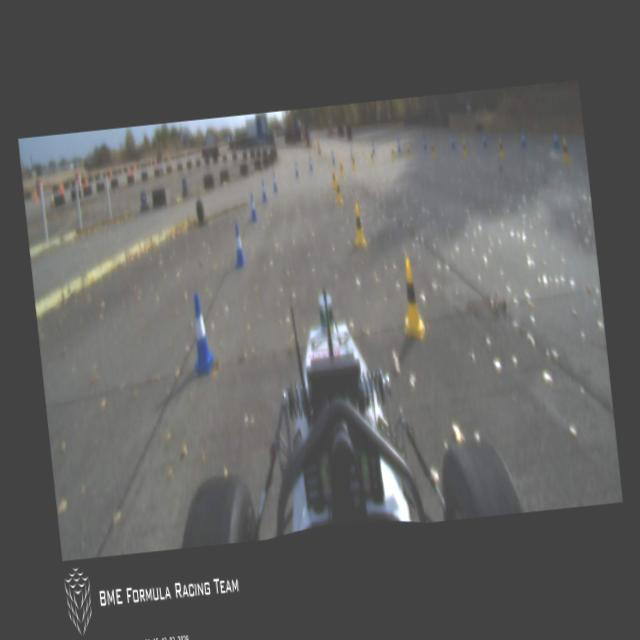blue_cone: (184, 293, 216, 375), (230, 224, 246, 264), (248, 190, 258, 220), (270, 172, 278, 192), (260, 180, 266, 200), (520, 128, 526, 148), (552, 130, 558, 148), (330, 148, 335, 164), (422, 134, 427, 150), (294, 161, 298, 177), (308, 154, 312, 170), (482, 131, 486, 147), (450, 132, 454, 148), (396, 137, 400, 153), (348, 145, 352, 159), (371, 141, 375, 154)
yellow_cone: (396, 257, 426, 342), (349, 201, 366, 248), (560, 138, 570, 163), (333, 178, 342, 205), (496, 135, 504, 157), (329, 167, 336, 190), (338, 158, 344, 178), (350, 152, 356, 168), (430, 139, 435, 158), (390, 144, 395, 161), (369, 148, 374, 164), (406, 142, 410, 160), (462, 140, 466, 156)
